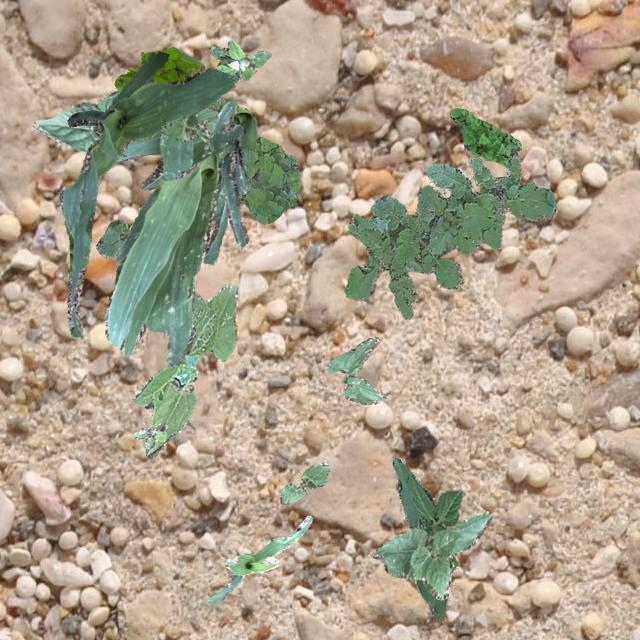crop: (59, 51, 239, 337), (104, 100, 248, 364), (116, 105, 256, 264), (132, 284, 236, 458), (392, 458, 462, 620), (372, 509, 490, 598), (205, 514, 312, 604), (32, 90, 118, 150), (324, 336, 384, 404), (158, 112, 242, 154), (278, 462, 328, 504), (95, 218, 132, 256)
weed: (343, 154, 554, 318), (205, 95, 298, 224), (450, 108, 520, 166), (114, 46, 204, 90), (208, 40, 270, 78), (132, 420, 166, 448)
